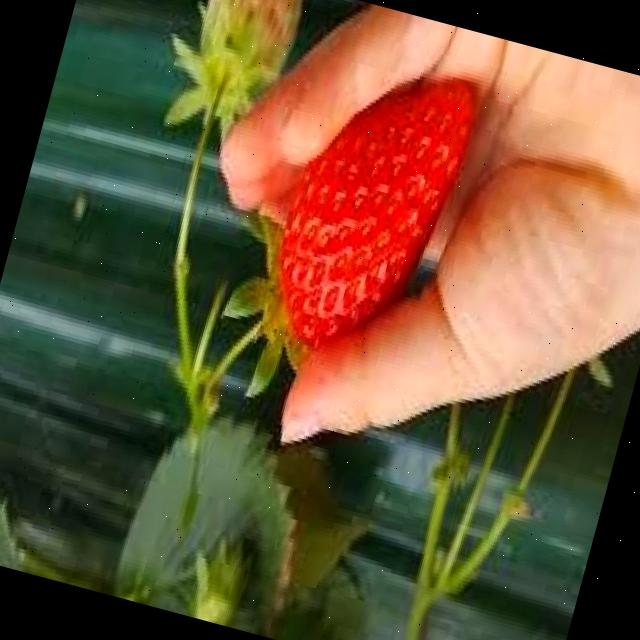strawberry: (256, 45, 483, 374), (187, 0, 304, 104)
